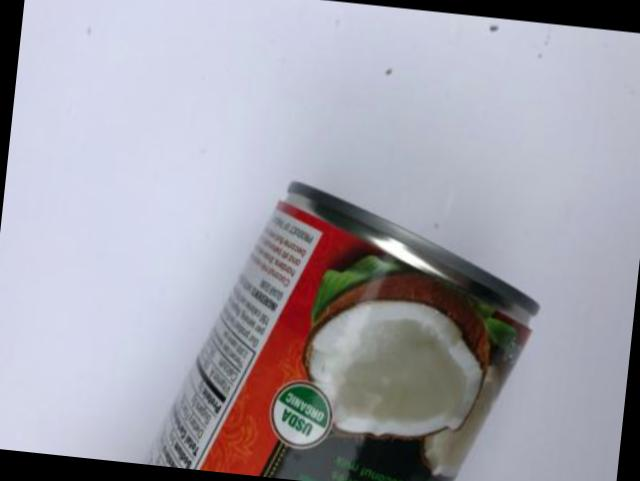metal: (147, 180, 535, 481)
